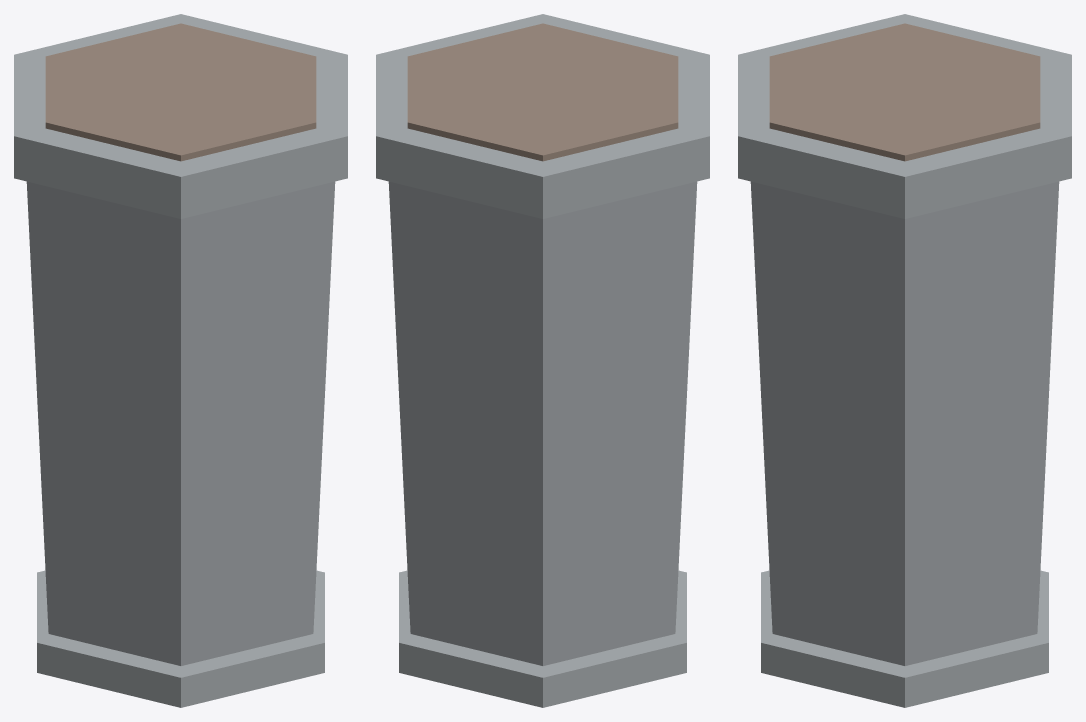
Rendered from waste-basket-far.glb.
3 views of the same model, side by side, from view 1: azimuth 30°, elevation 25°; view 2: azimuth 150°, elevation 25°; view 3: azimuth 270°, elevation 25° (orthographic).
Parts seen in each view (by area): view 1: waste-basket-far; view 2: waste-basket-far; view 3: waste-basket-far.
Part boxes in pixels (<box>): waste-basket-far: <box>14,14,347,707</box>; waste-basket-far: <box>376,14,709,707</box>; waste-basket-far: <box>738,14,1071,707</box>.
Bounding box in the file's own units: 0.6374 × 1 × 0.552.
